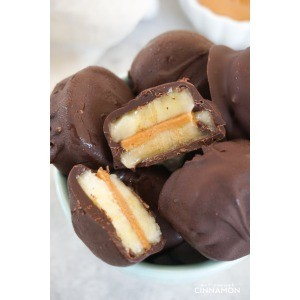peanut butter_brain food: (69, 64, 239, 254)
